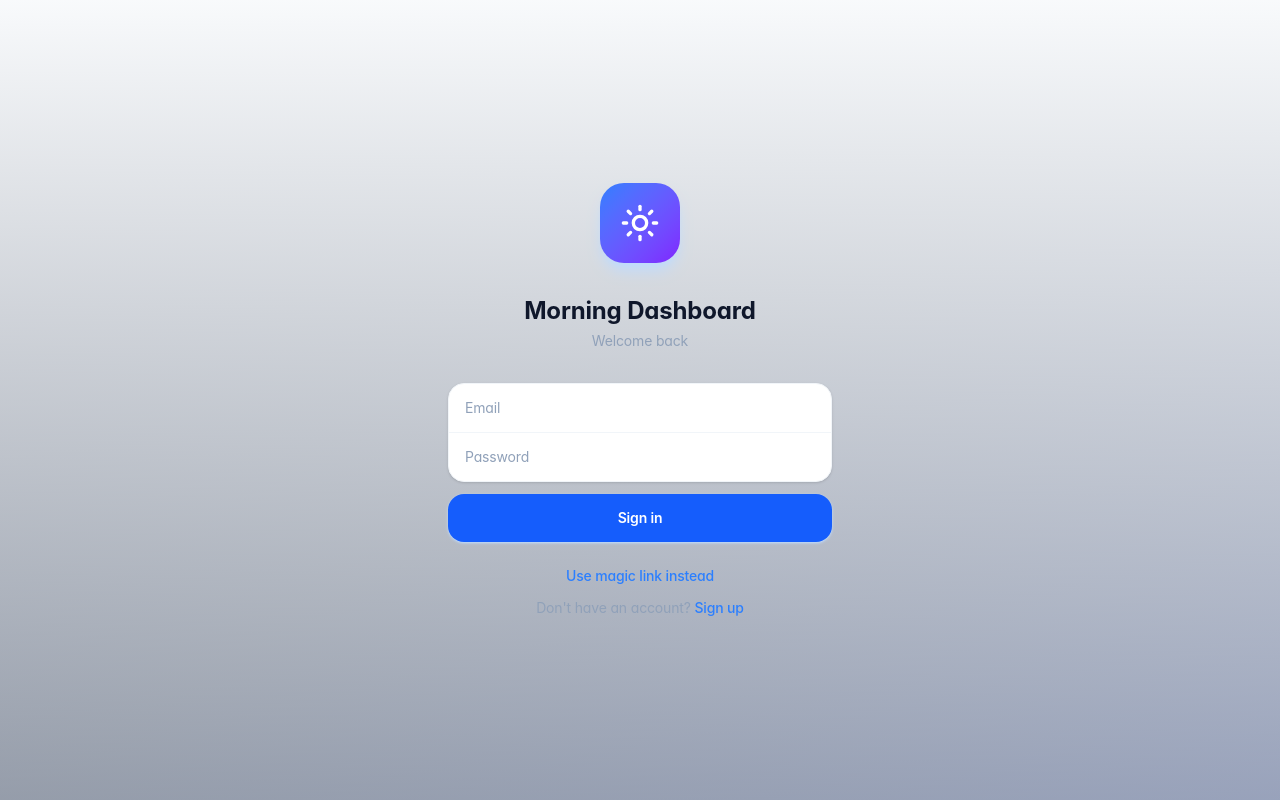
Scenario: Auth › switches to magic link mode and hides the password field
The width and height of the screenshot is (1280, 800).
Click the button "Use magic link instead": click(640, 576) [566,566,714,586]
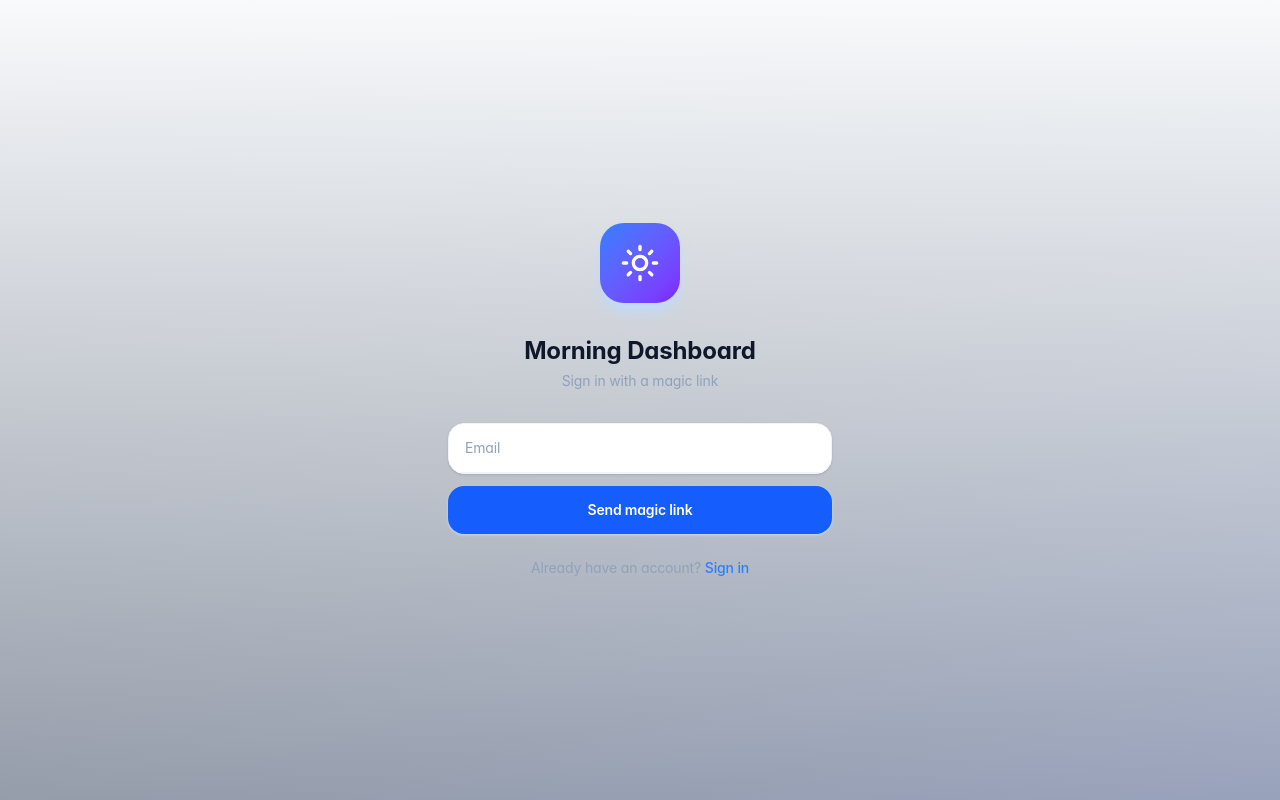
Expected: the text "Sign in with a magic link" is shown, [562,372,718,388]
Expected: the password field with placeholder "Password" is gone
Expected: the button "Send magic link" is shown, [448,486,832,534]
